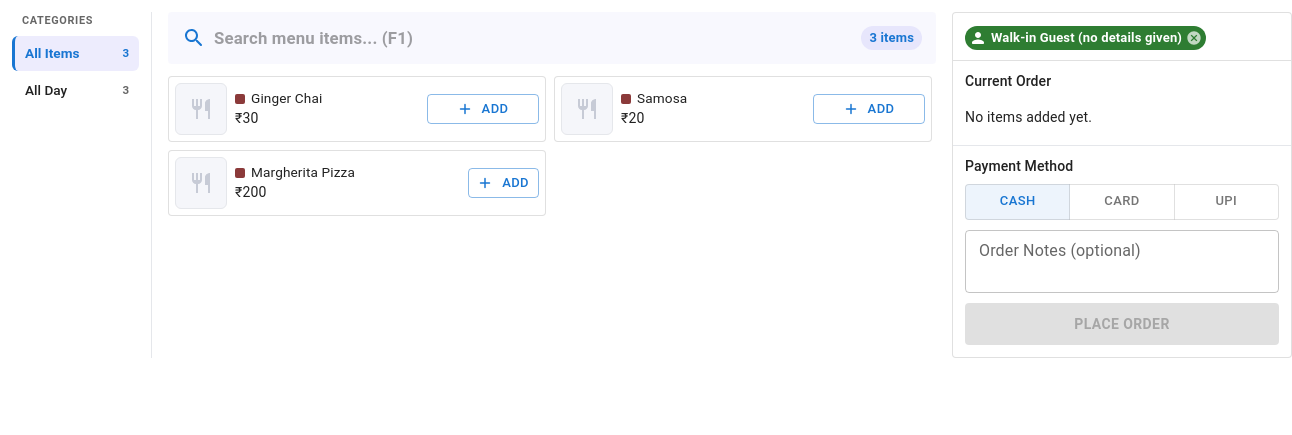
Scenario: PosOrderBuilder - building the cart › adds a plain item to the cart and reflects it in the subtotal
The image size is (1292, 435).
expect the text "Ginger Chai" is shown: met, box [251,90,322,107]
Click the button "Add" next to "Ginger Chai": (483, 109) [427,94,539,124]
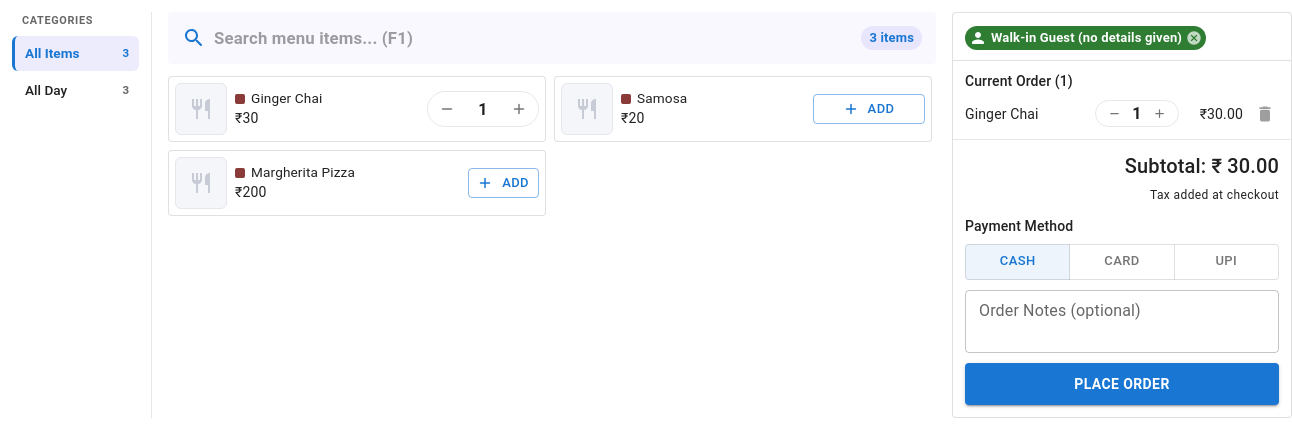
expect the heading "Subtotal: ₹ 30.00" is shown: met, box [1125,154,1279,178]
